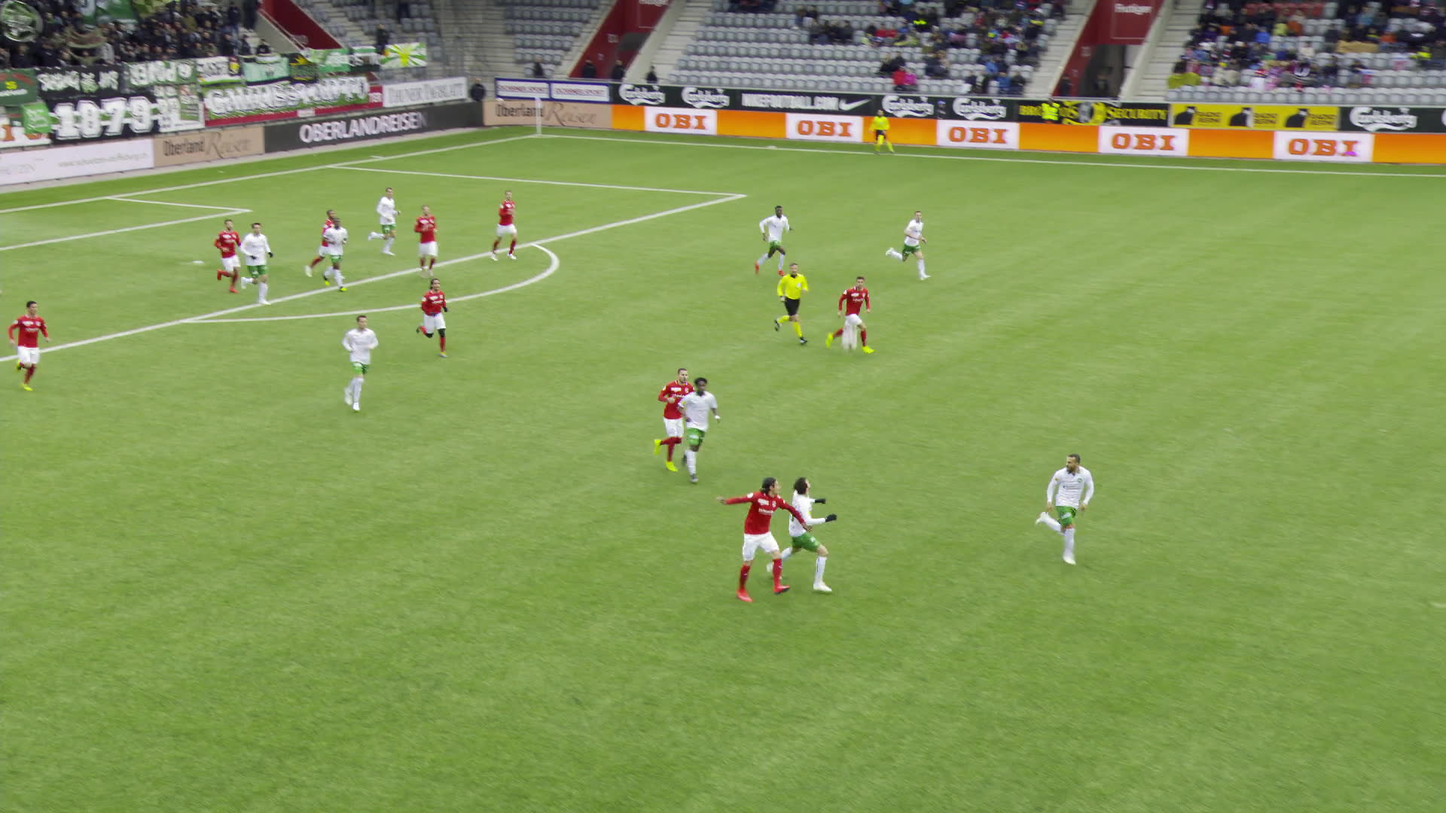ball: (840, 309, 861, 338)
player: (710, 472, 803, 601), (1029, 451, 1097, 571), (778, 477, 834, 592), (648, 369, 700, 475), (681, 378, 730, 487), (6, 298, 53, 393), (828, 277, 877, 358), (340, 314, 380, 413), (885, 210, 932, 282), (243, 222, 279, 309), (756, 206, 796, 280), (416, 276, 452, 358), (212, 218, 249, 296), (368, 188, 407, 260), (307, 209, 342, 282), (492, 191, 524, 264), (411, 202, 439, 279), (325, 219, 353, 294)
referee: (778, 263, 814, 348), (871, 108, 897, 156)
